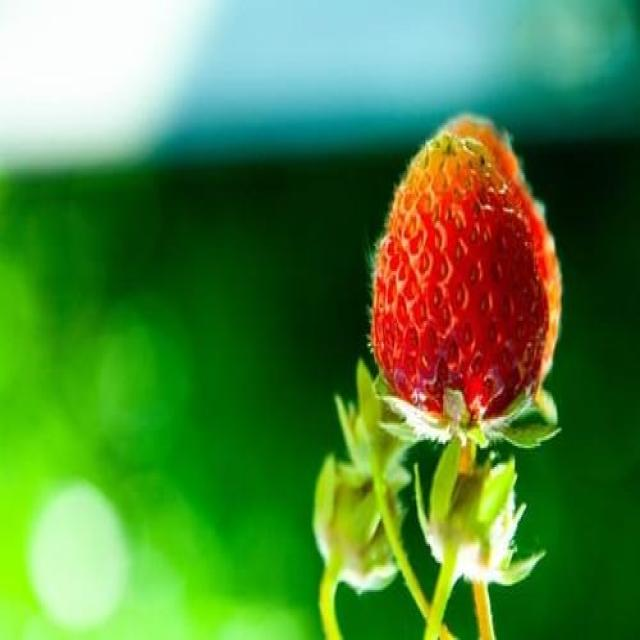mature: (372, 129, 552, 426)
